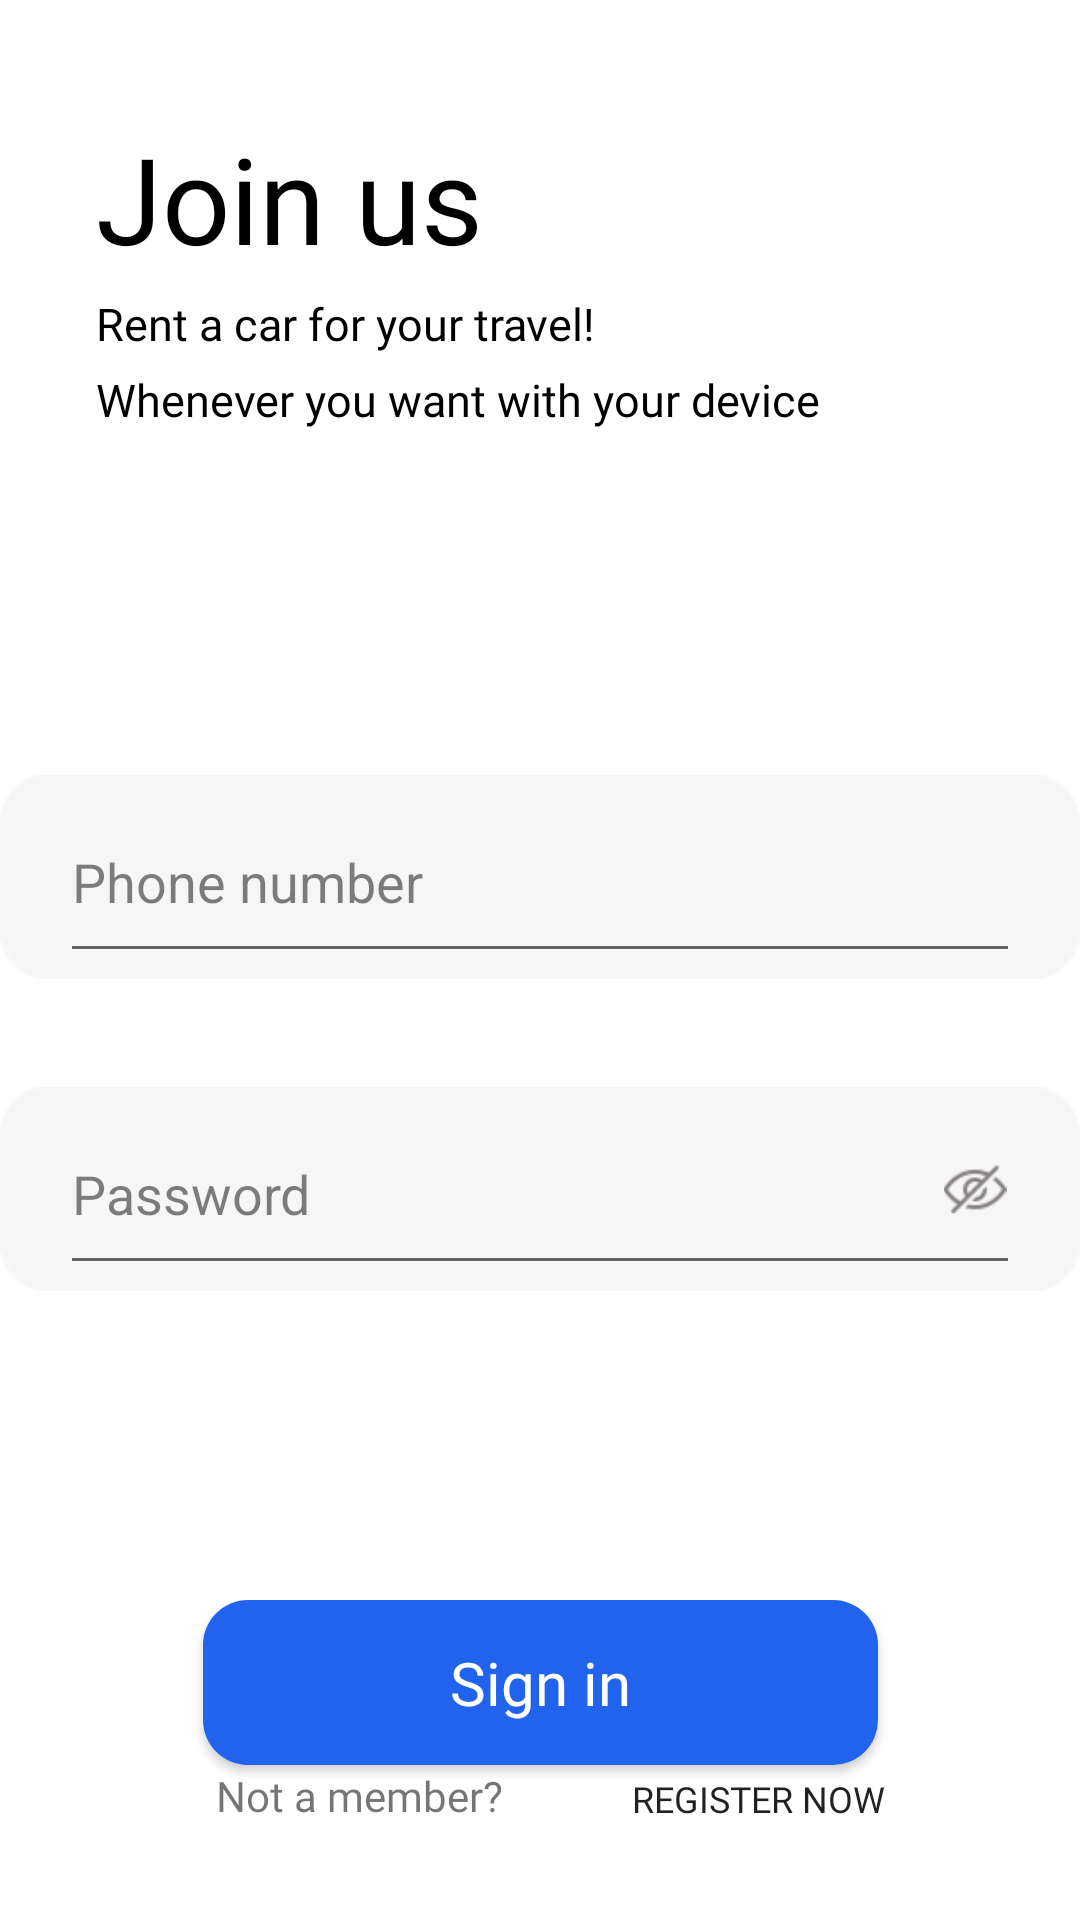

Icons on this 1080×1920 Android screen, each with its box as (left=x1, top=y1, right=x2, bottom=y2):
hideicon: (left=944, top=1165, right=1007, bottom=1214)
